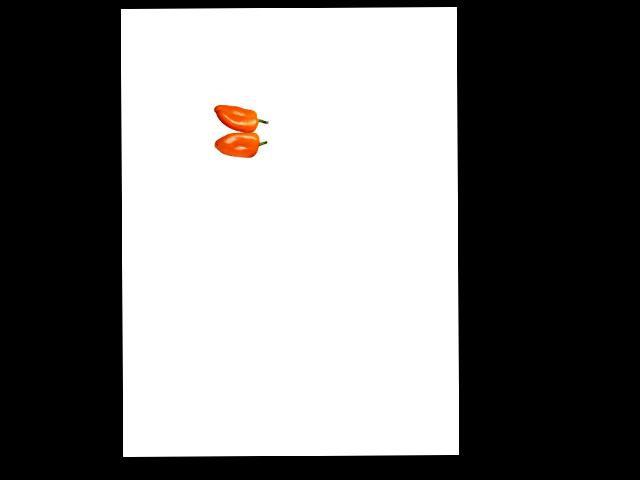bell_pepper: (203, 131, 268, 163)
